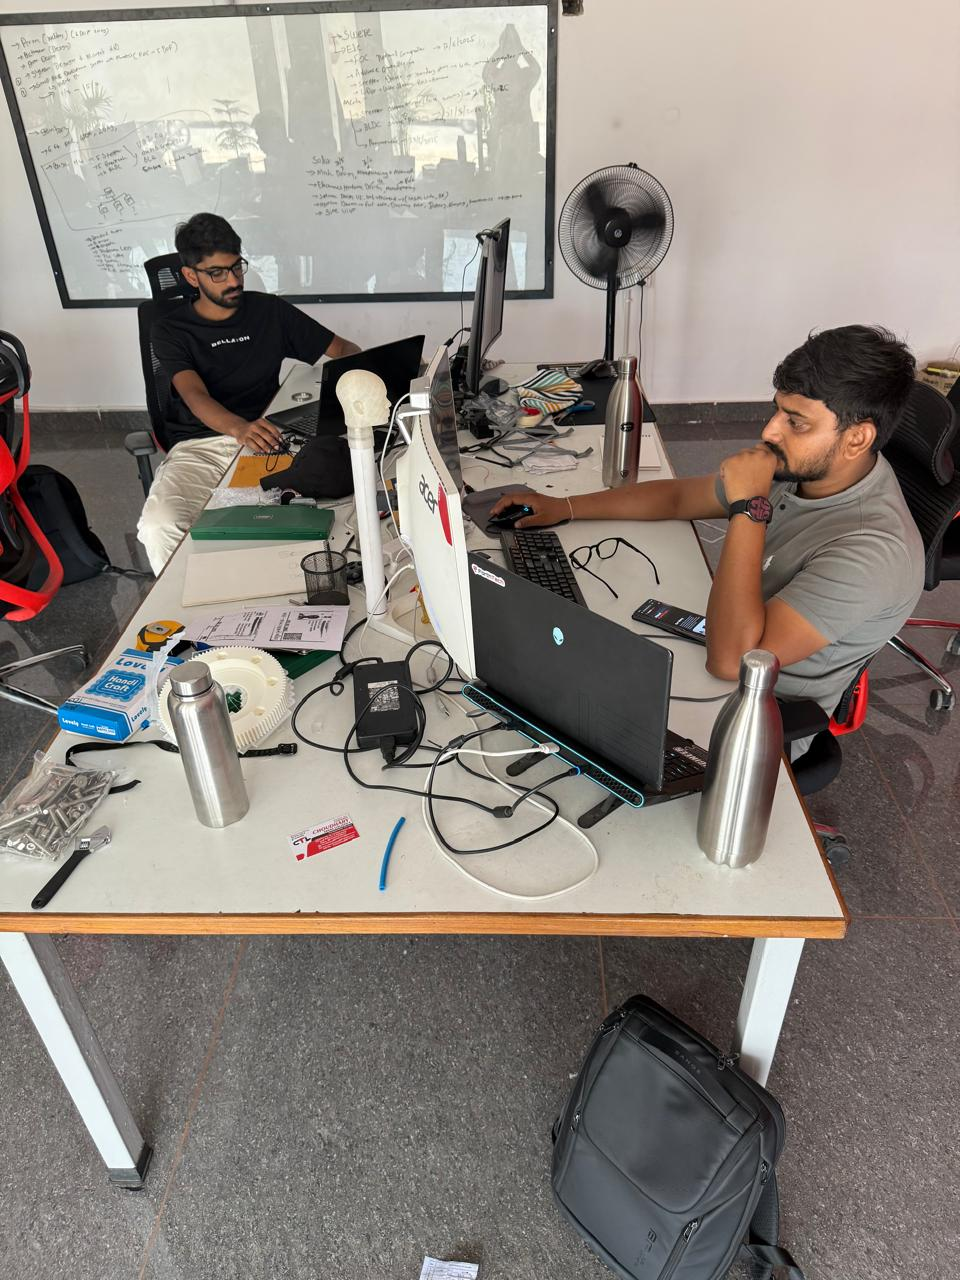bottle_on_table: (688, 606, 824, 894), (157, 650, 260, 858), (586, 354, 665, 510)
